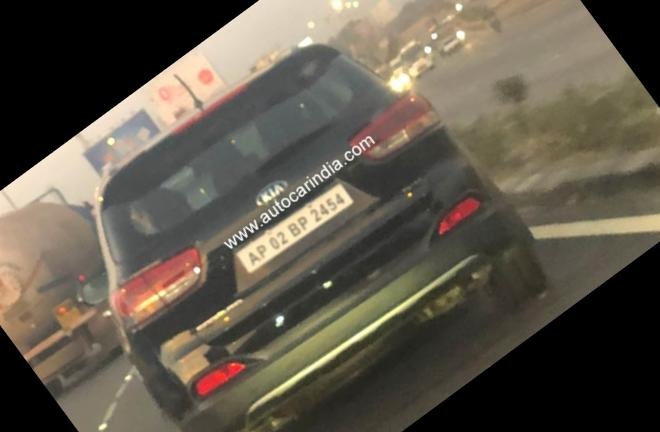plate: (225, 155, 378, 286)
